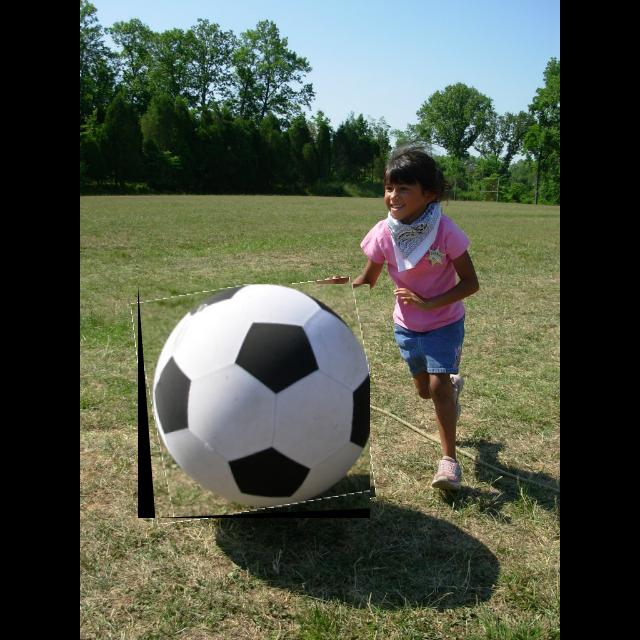Football: (138, 284, 370, 518)
